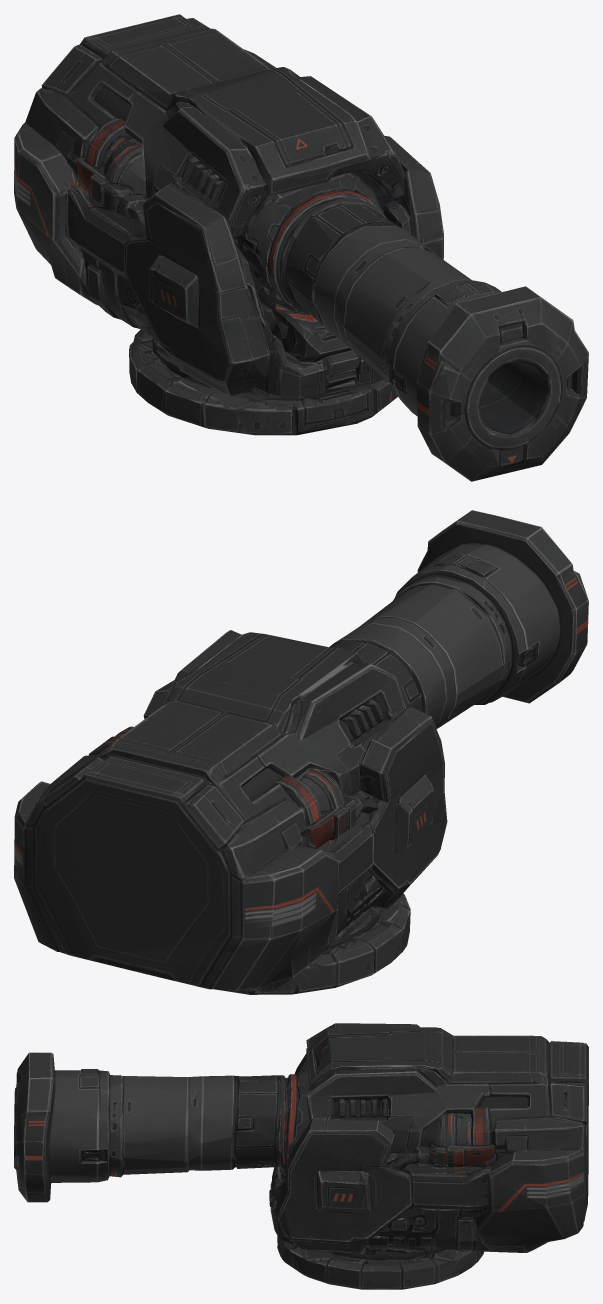
File: cannon_upper.glb
3 renders of one model, top to bottom at view 1: azimuth 30°, elevation 25°; view 2: azimuth 150°, elevation 25°; view 3: azimuth 270°, elevation 25°, orthographic. The views are drawn at different scales.
Parts seen in each view (by area): view 1: output_unwrapped; view 2: output_unwrapped; view 3: output_unwrapped.
Part boxes in pixels (x1=…): output_unwrapped: x1=14, y1=14, x2=588, y2=481; output_unwrapped: x1=14, y1=510, x2=588, y2=994; output_unwrapped: x1=14, y1=1023, x2=588, y2=1289.
Bounding box in the file's own units: 0.8183 × 0.7426 × 1.9.
Materials: 1 (1 with a texture image).
